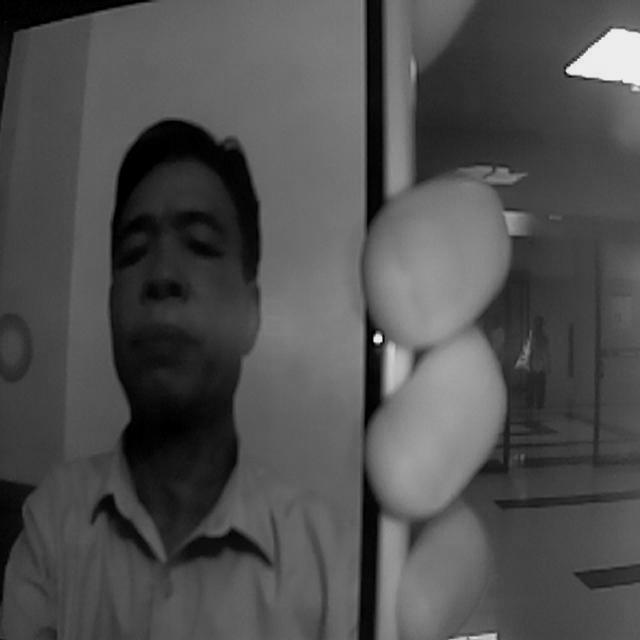fake: (1, 1, 405, 640)
